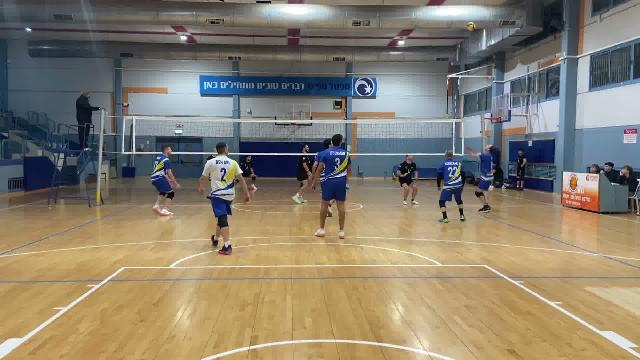ball: (465, 21, 475, 30)
